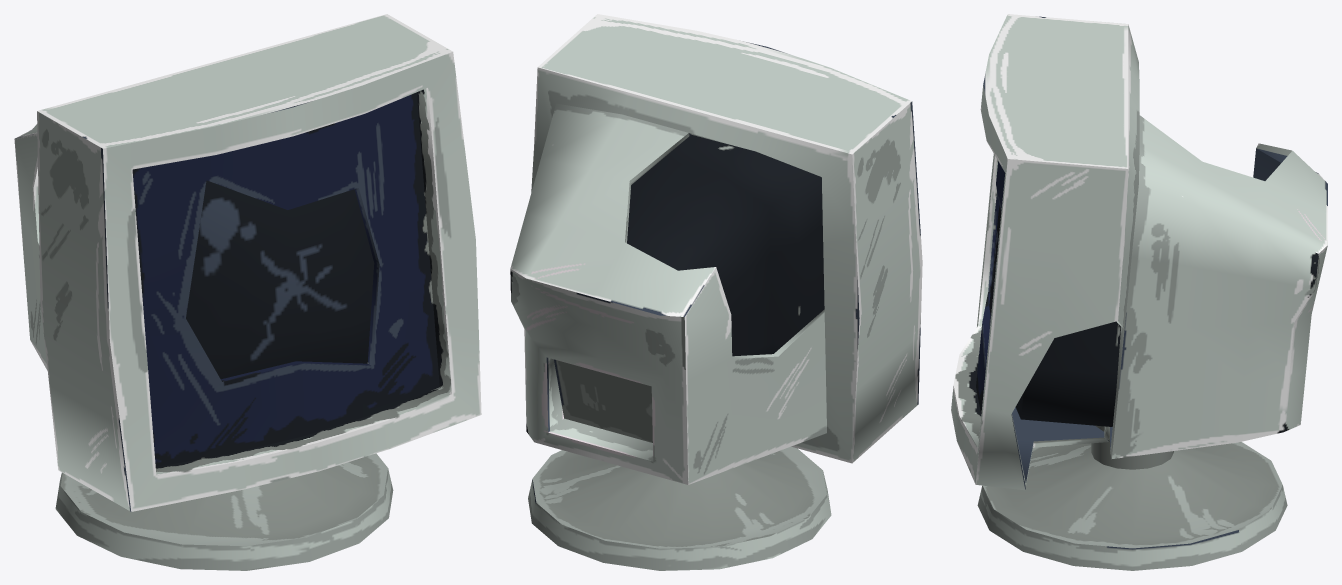
The model's file is Monitor_1.glb.
The picture shows the model from 3 angles, left to right: view 1: azimuth 30°, elevation 25°; view 2: azimuth 150°, elevation 25°; view 3: azimuth 270°, elevation 25°; orthographic projection. The views are drawn at different scales.
Parts seen in each view (by area): view 1: Monitor_1; view 2: Monitor_1; view 3: Monitor_1.
Boxes of the visible parts, x1,y1,x2,y2 form: Monitor_1: [14, 14, 481, 570]; Monitor_1: [510, 14, 922, 570]; Monitor_1: [951, 14, 1327, 570].
Size of the model in its own units: 0.5482 by 0.6564 by 0.5367.
1 material, 1 textured.
